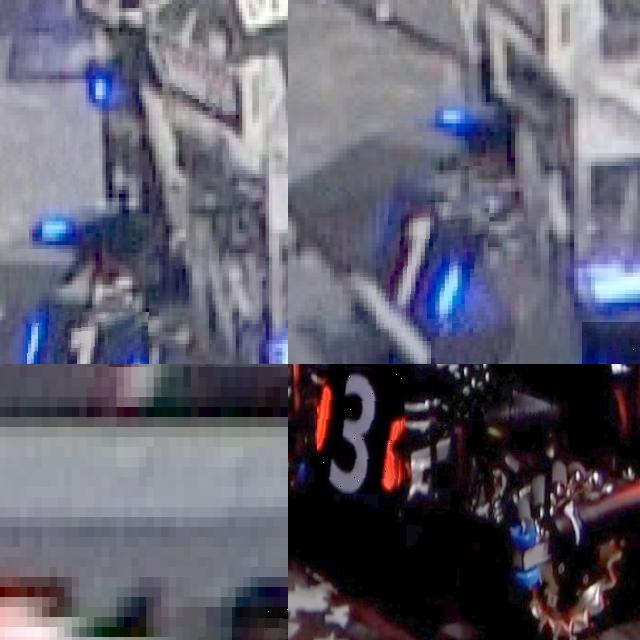B1: (376, 202, 490, 330), (25, 312, 149, 364)
R3: (317, 370, 404, 494)
